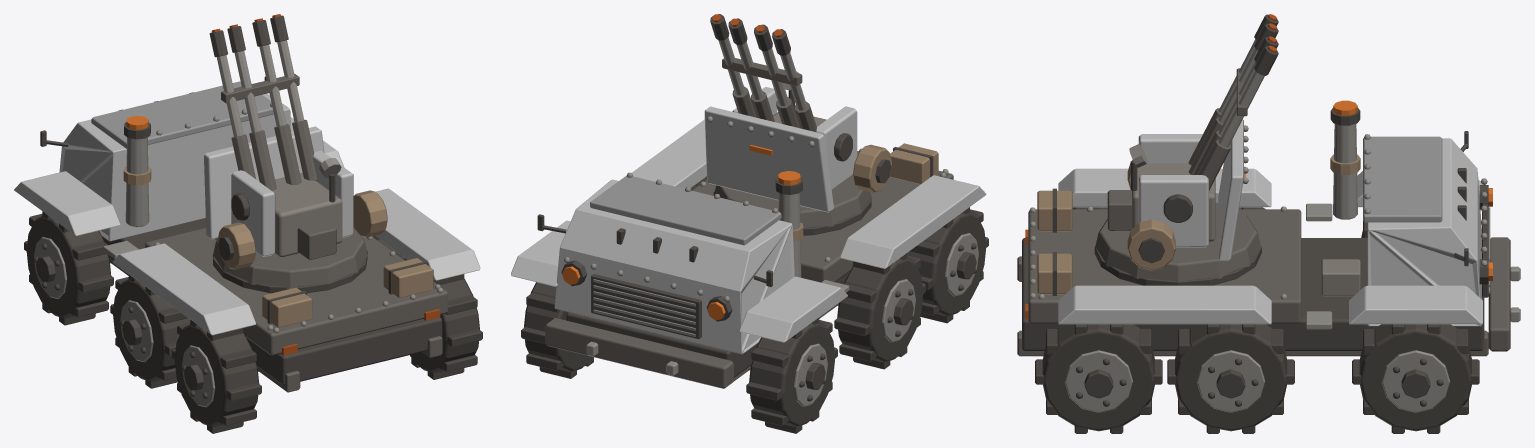
File: crucible_flak_vehicle.glb
3 renders of one model, left to right at view 1: azimuth 30°, elevation 25°; view 2: azimuth 150°, elevation 25°; view 3: azimuth 270°, elevation 25°, orthographic. The views are drawn at different scales.
Visible parts, largest first — view 1: Body, Turret; view 2: Body, Turret; view 3: Body, Turret.
Boxes of the visible parts, bbox=[...] form: Body: bbox=[14, 76, 482, 433]; Turret: bbox=[204, 14, 387, 288]; Body: bbox=[511, 119, 988, 433]; Turret: bbox=[704, 14, 891, 227]; Body: bbox=[1017, 100, 1520, 433]; Turret: bbox=[1095, 14, 1278, 281].
Bounding box in the file's own units: 1.54 × 1.69 × 2.28.
